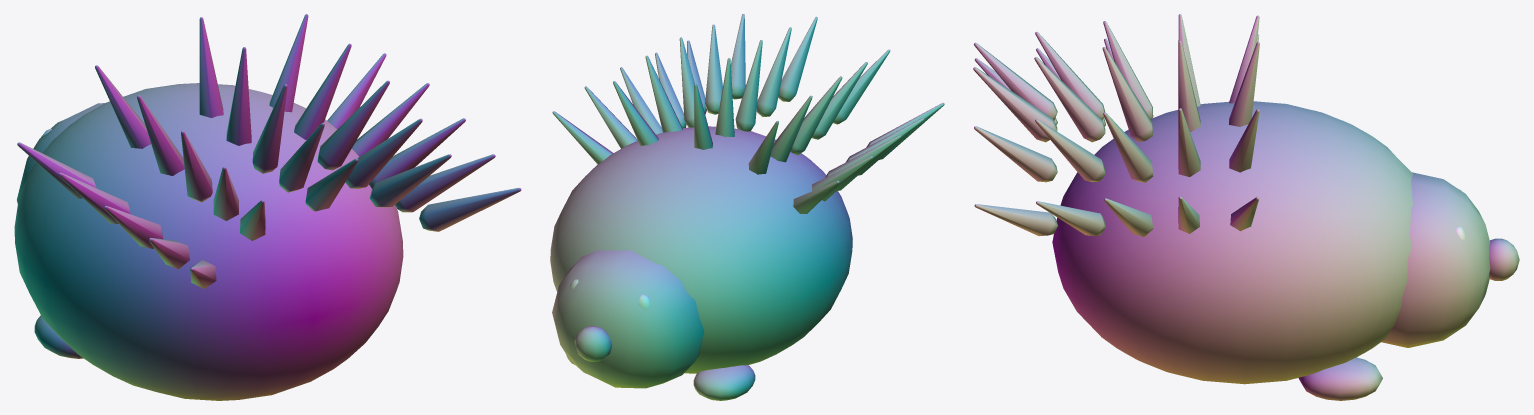
File: pet_hedgehog.glb
The picture shows the model from 3 angles, left to right: view 1: azimuth 30°, elevation 25°; view 2: azimuth 150°, elevation 25°; view 3: azimuth 270°, elevation 25°; orthographic projection. The views are drawn at different scales.
Parts seen in each view (by area): view 1: hedgehog; view 2: hedgehog; view 3: hedgehog.
Boxes of the visible parts, left/top/right/bottom form: hedgehog: left=14, top=14, right=521, bottom=400; hedgehog: left=550, top=14, right=944, bottom=400; hedgehog: left=973, top=14, right=1519, bottom=400.
Size of the model in its own units: 0.2034 by 0.1857 by 0.2841.
